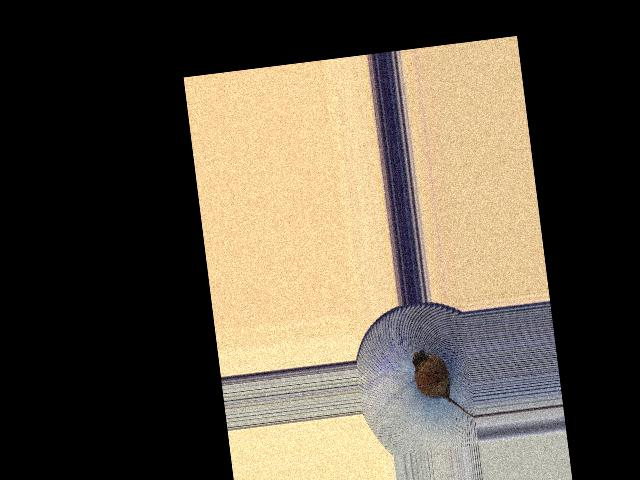beet: (411, 343, 475, 423)
